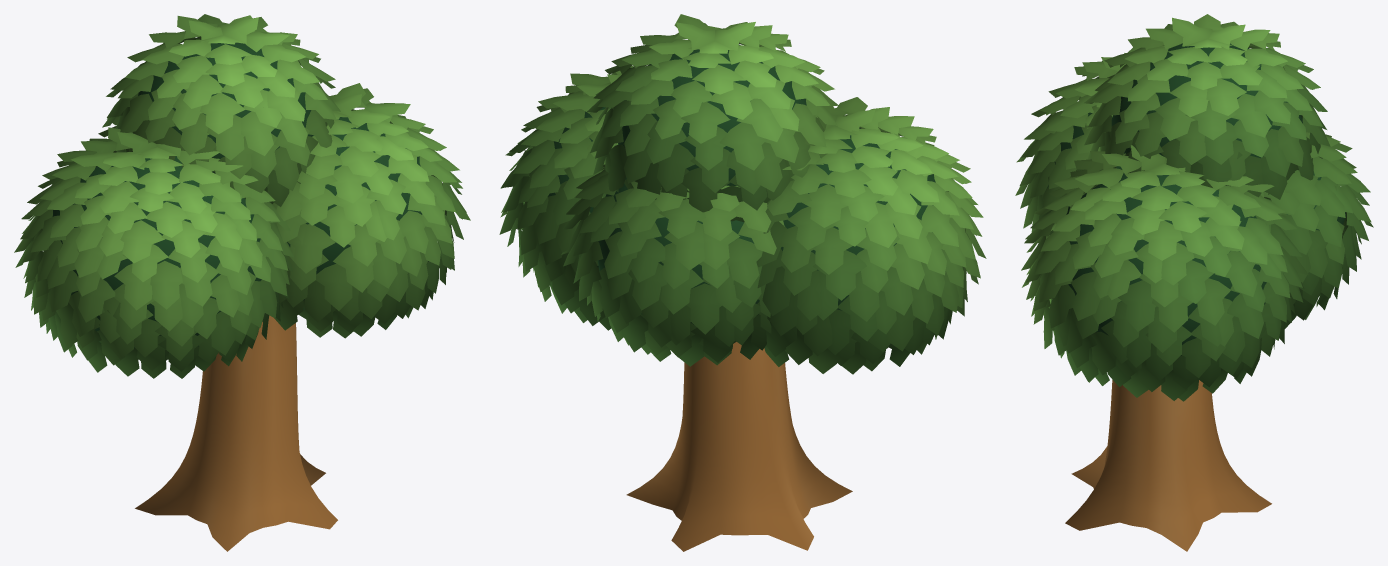
The model's file is tree_round_a.glb.
The picture shows the model from 3 angles, left to right: view 1: azimuth 30°, elevation 25°; view 2: azimuth 150°, elevation 25°; view 3: azimuth 270°, elevation 25°; orthographic projection. The views are drawn at different scales.
Parts seen in each view (by area): view 1: tree_round_a; view 2: tree_round_a; view 3: tree_round_a.
Boxes of the visible parts, x1,y1,x2,y2 form: tree_round_a: (14,14,470,551); tree_round_a: (499,14,986,551); tree_round_a: (1015,14,1373,551).
Size of the model in its own units: 3.48 by 3.68 by 2.51.
